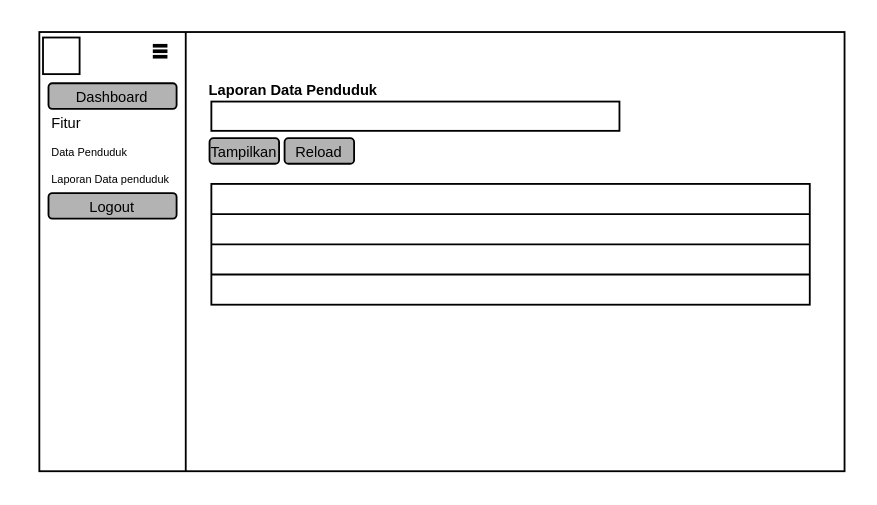
This 877x505 diagram has some shape labels left out. The shapes that lost their labels are listed below. From the top down, each one's box as (x1, y1, x2, y2) in pixels, then its label:
(41, 36, 80, 74): logo
(210, 100, 619, 131): Pilih RT
